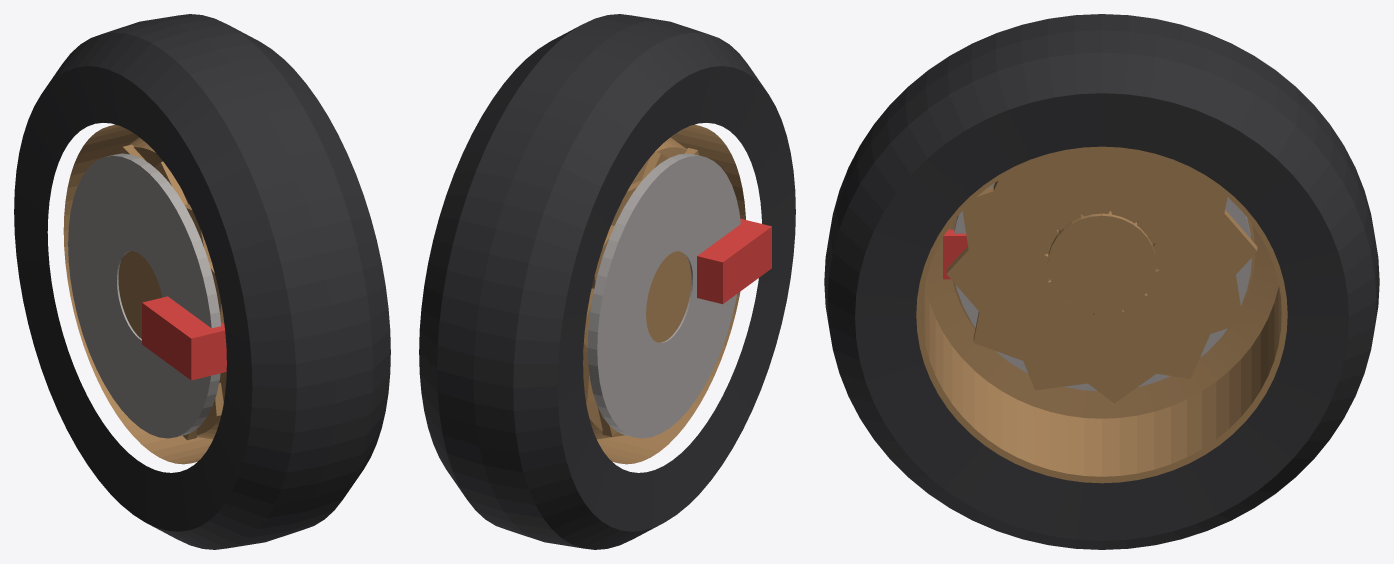
File: turbine_12spoke.glb
The picture shows the model from 3 angles, left to right: view 1: azimuth 30°, elevation 25°; view 2: azimuth 150°, elevation 25°; view 3: azimuth 270°, elevation 25°; orthographic projection. The views are drawn at different scales.
Visible parts, largest first — view 1: Tire, BrakeRotor, RimBarrel, BrakeCaliper, HubCap, RimSpokes; view 2: Tire, BrakeRotor, RimBarrel, BrakeCaliper, HubCap, RimSpokes; view 3: Tire, RimSpokes, RimBarrel, HubCap, BrakeRotor, BrakeCaliper.
Boxes of the visible parts, x1,y1,x2,y2 form: Tire: (14, 14, 390, 549); BrakeRotor: (68, 153, 221, 438); RimBarrel: (63, 124, 226, 464); BrakeCaliper: (142, 296, 226, 380); HubCap: (118, 251, 162, 338); RimSpokes: (121, 144, 226, 440); Tire: (419, 14, 795, 549); BrakeRotor: (587, 153, 740, 438); RimBarrel: (583, 124, 745, 464); BrakeCaliper: (697, 218, 771, 304); HubCap: (646, 251, 691, 342); RimSpokes: (583, 148, 699, 436); Tire: (824, 14, 1379, 549); RimSpokes: (946, 150, 1257, 403); RimBarrel: (916, 146, 1287, 483); HubCap: (1047, 210, 1156, 313); BrakeRotor: (954, 183, 1251, 390); BrakeCaliper: (943, 229, 967, 279).
Bounding box in the file's own units: 0.295 × 0.8703 × 0.8703.
